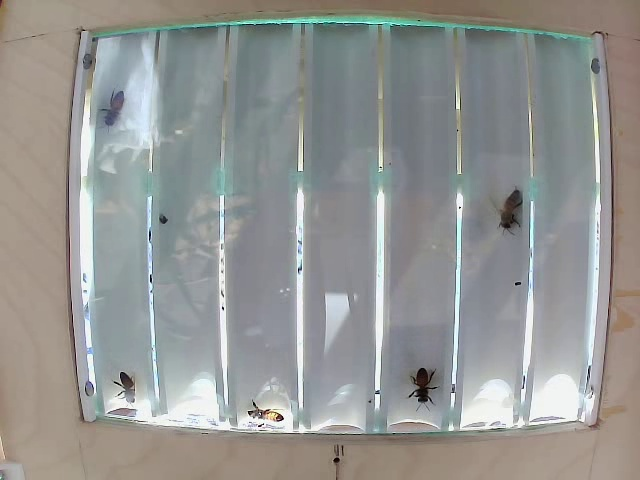bee: (496, 177, 530, 233), (401, 365, 445, 404), (255, 400, 305, 433), (111, 371, 152, 410)
